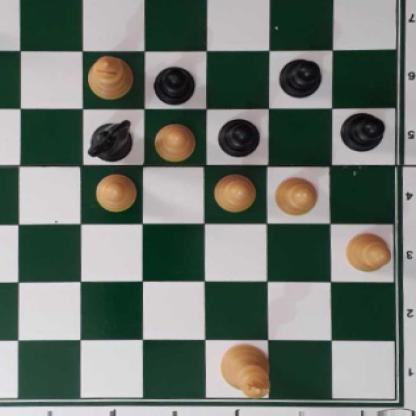black-knight: (88, 116, 134, 162)
black-pawn: (151, 64, 196, 105), (339, 112, 385, 152), (278, 56, 322, 97), (218, 115, 260, 157)
white-bishop: (85, 52, 134, 101)
white-king: (219, 341, 269, 398)
white-pawn: (273, 174, 318, 216), (344, 232, 391, 271), (150, 121, 197, 160), (213, 172, 256, 213), (94, 174, 136, 212)
